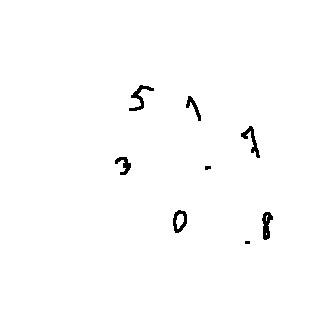.: (240, 232, 255, 250), (201, 162, 217, 175)
0: (168, 206, 195, 242)
1: (183, 89, 205, 135)
3: (100, 150, 141, 186)
5: (123, 79, 159, 120)
7: (235, 121, 271, 164)
8: (260, 207, 279, 245)
